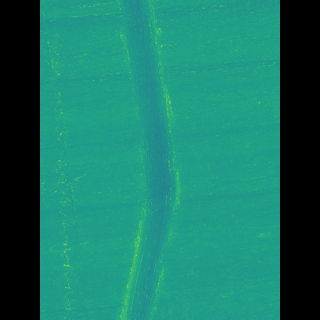Loch: (125, 0, 177, 320)
